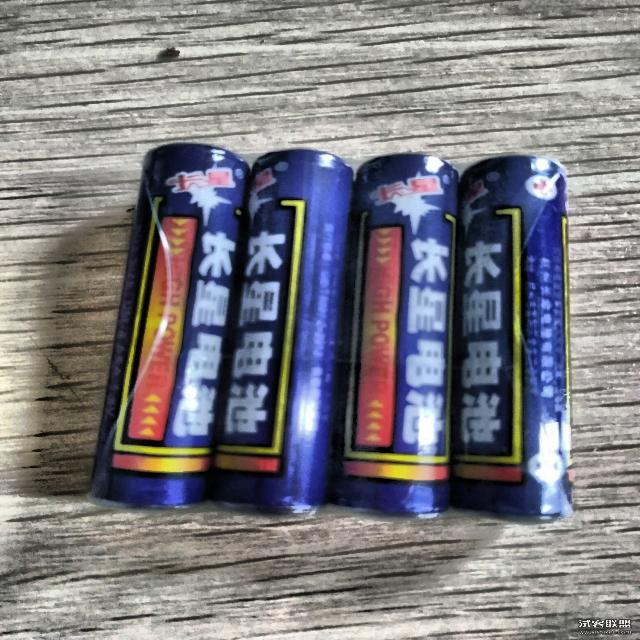Non-Valuable Waste - Batteries: (90, 145, 248, 506), (213, 150, 352, 511), (333, 155, 458, 514), (452, 156, 572, 516)
